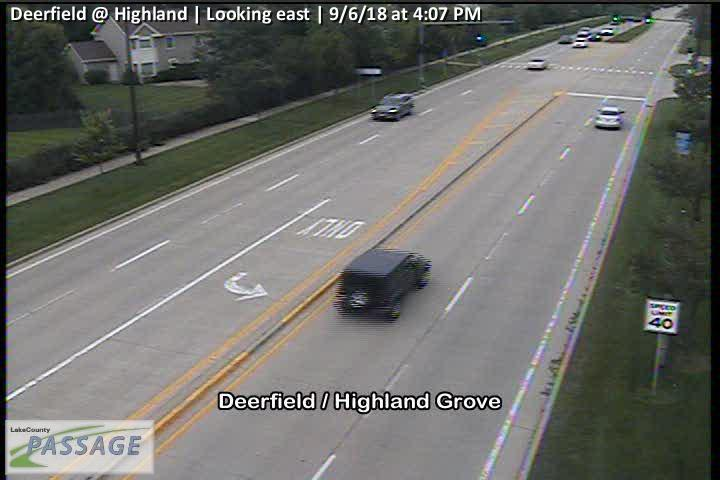SUV: (335, 246, 431, 320)
Sedan: (368, 92, 414, 122), (595, 106, 625, 127), (527, 58, 546, 69), (573, 37, 588, 48), (558, 34, 570, 43), (577, 27, 590, 35), (600, 27, 613, 34)
